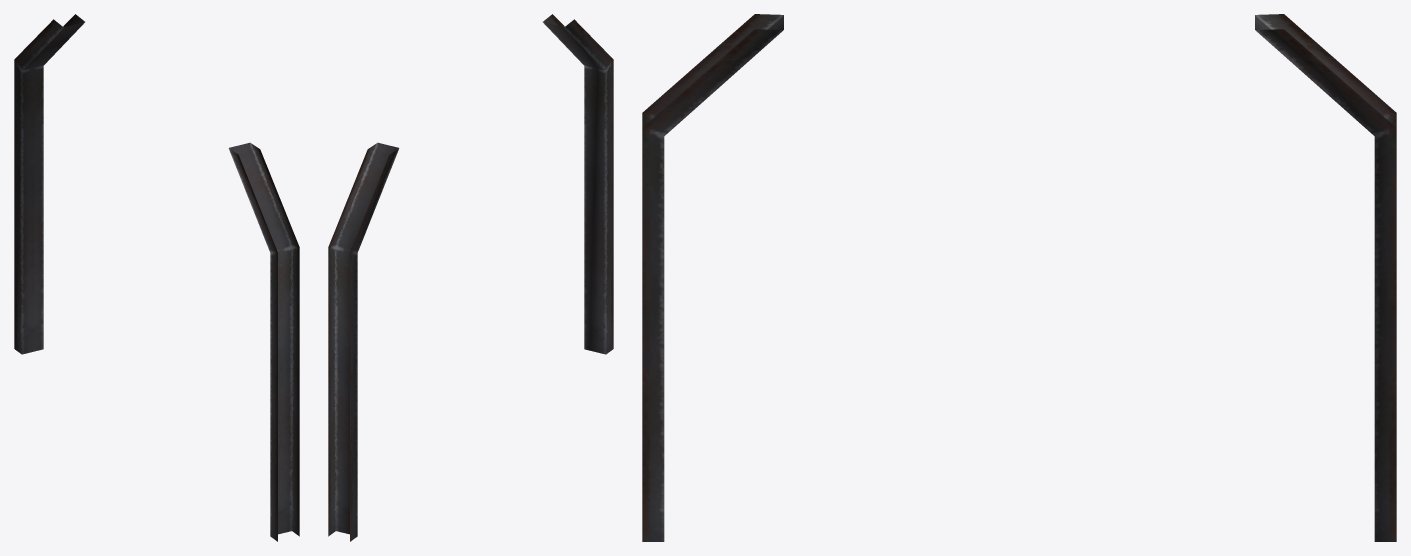
The model's file is MESH_CORREDOR_Vigas.fbx.
3 renders of one model, left to right at view 1: azimuth 30°, elevation 25°; view 2: azimuth 150°, elevation 25°; view 3: azimuth 270°, elevation 25°, orthographic. The views are drawn at different scales.
Parts seen in each view (by area): view 1: MESH_CORREDOR_Vigas; view 2: MESH_CORREDOR_Vigas; view 3: MESH_CORREDOR_Vigas.
Boxes of the visible parts, x1=… form: MESH_CORREDOR_Vigas: x1=14, y1=14, x2=299, y2=541; MESH_CORREDOR_Vigas: x1=328, y1=14, x2=613, y2=541; MESH_CORREDOR_Vigas: x1=642, y1=14, x2=1396, y2=541.
Bounding box in the file's own units: 0.1905 × 3 × 4.
